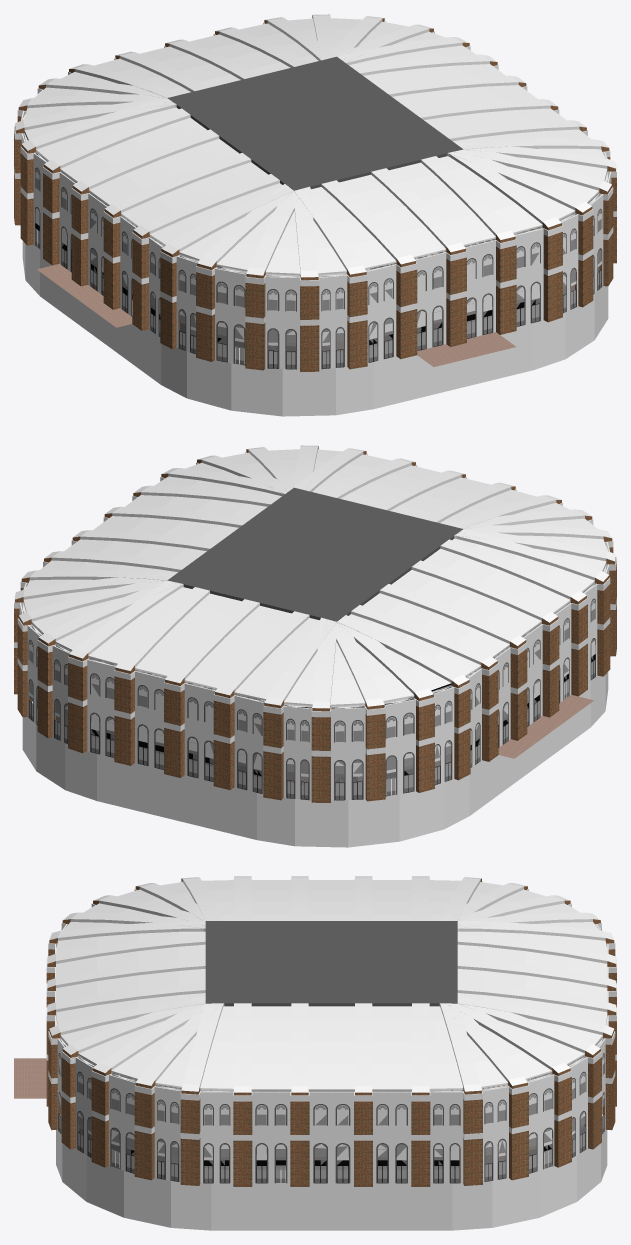
The model's file is stadium-low.glb.
3 views of the same model, one above another, from view 1: azimuth 30°, elevation 25°; view 2: azimuth 150°, elevation 25°; view 3: azimuth 270°, elevation 25° (orthographic).
Parts seen in each view (by area): view 1: STADIUM_W_arch, STADIUM_N_arch, STADIUM_S_arch, STADIUM_N_detail, STADIUM_W_detail, STADIUM_E_arch; view 2: STADIUM_W_arch, STADIUM_S_arch, STADIUM_N_arch, STADIUM_S_detail, STADIUM_W_detail, STADIUM_E_arch; view 3: STADIUM_W_arch, STADIUM_E_arch, STADIUM_N_arch, STADIUM_S_arch, STADIUM_E_detail.
Part boxes in pixels (left/top/right/bottom): STADIUM_W_arch: left=14, top=15, right=608, bottom=416; STADIUM_N_arch: left=230, top=103, right=613, bottom=371; STADIUM_S_arch: left=17, top=14, right=399, bottom=204; STADIUM_N_detail: left=268, top=219, right=601, bottom=351; STADIUM_W_detail: left=35, top=158, right=244, bottom=347; STADIUM_E_arch: left=415, top=24, right=616, bottom=263; STADIUM_W_arch: left=22, top=446, right=616, bottom=847; STADIUM_S_arch: left=17, top=534, right=400, bottom=802; STADIUM_N_arch: left=231, top=445, right=613, bottom=635; STADIUM_S_detail: left=29, top=650, right=362, bottom=782; STADIUM_W_detail: left=386, top=591, right=595, bottom=778; STADIUM_E_arch: left=14, top=455, right=215, bottom=694; STADIUM_W_arch: left=56, top=876, right=607, bottom=1230; STADIUM_E_arch: left=109, top=1071, right=554, bottom=1186; STADIUM_N_arch: left=14, top=895, right=331, bottom=1167; STADIUM_S_arch: left=331, top=895, right=616, bottom=1167; STADIUM_E_detail: left=111, top=1098, right=552, bottom=1165.
Bounding box in the file's own units: 83.56 × 28.49 × 94.83.
39 materials, 14 textured.
